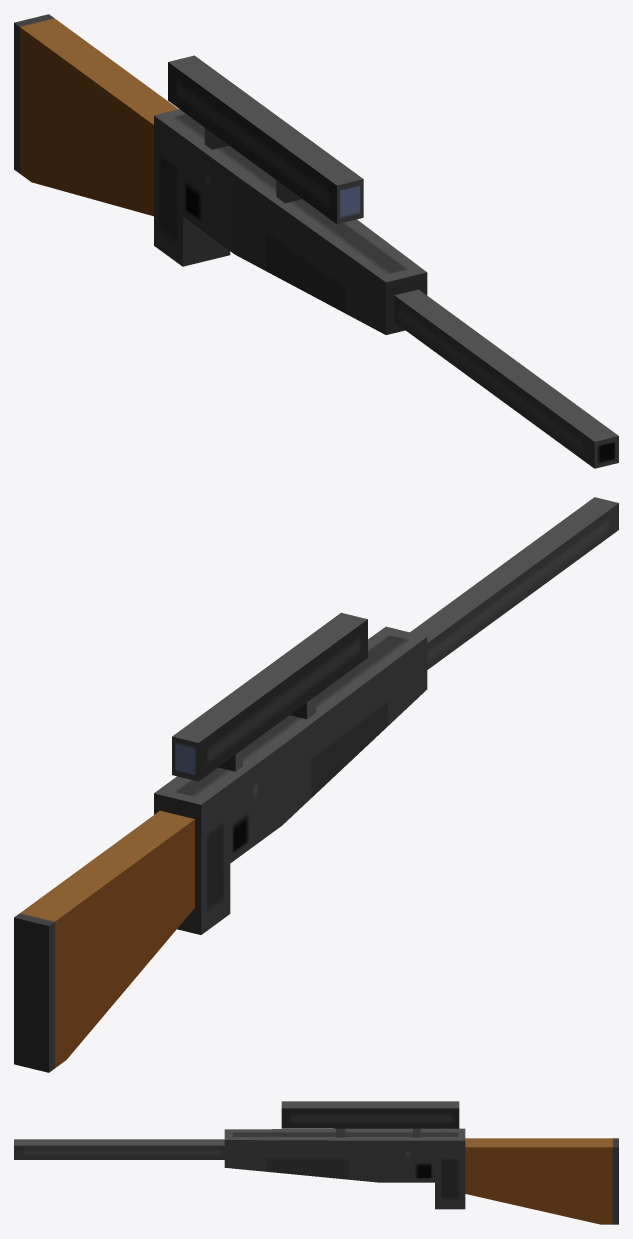
The model's file is SM_Wep_Rifle_01.fbx.
3 renders of one model, top to bottom at view 1: azimuth 30°, elevation 25°; view 2: azimuth 150°, elevation 25°; view 3: azimuth 270°, elevation 25°, orthographic. The views are drawn at different scales.
Parts seen in each view (by area): view 1: SM_Wep_Rifle_01; view 2: SM_Wep_Rifle_01; view 3: SM_Wep_Rifle_01.
Boxes of the visible parts, x1,y1,x2,y2 form: SM_Wep_Rifle_01: (14, 14, 618, 468); SM_Wep_Rifle_01: (14, 497, 618, 1072); SM_Wep_Rifle_01: (14, 1101, 618, 1224).
Bounding box in the file's own units: 12.57 × 55.35 × 264.
